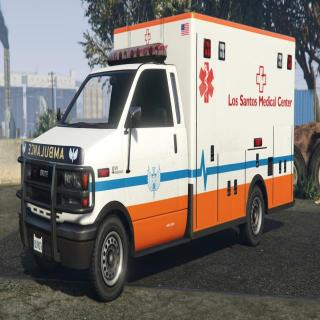Ambulance: (11, 8, 300, 282)
